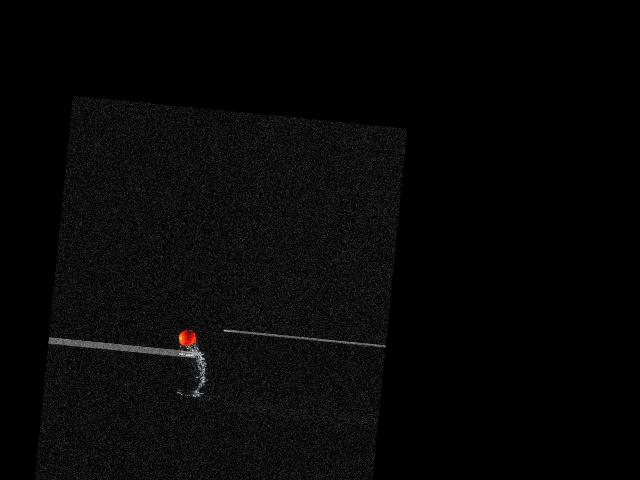tomato: (177, 329, 196, 347)
